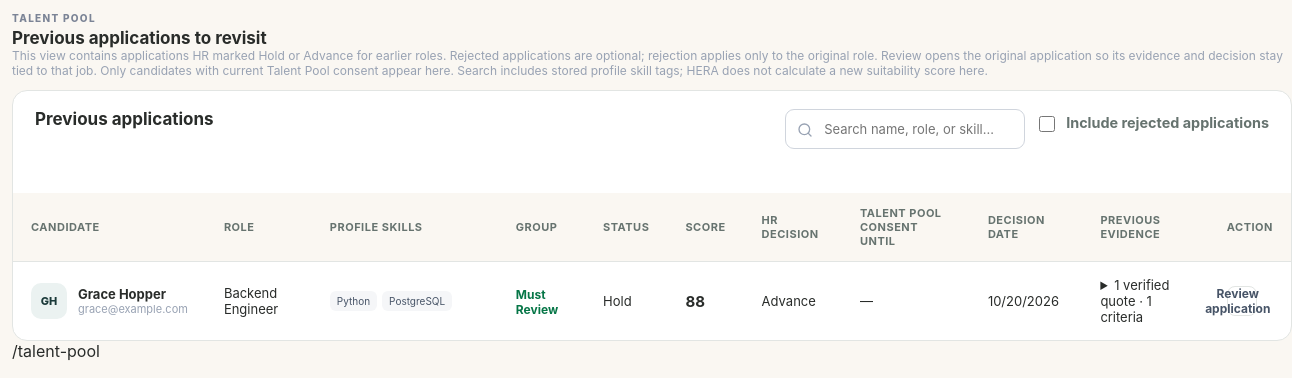
Scenario: TalentPoolList (RankedCandidateList integration) › navigates to the application review on row click
This screenshot has width=1292, height=378.
Expected: the text "Grace Hopper" is shown, x1=78 y1=286 x2=166 y2=302
Click the cell "GH Grace Hopper grace@example.com".
click(109, 301)  # box x1=13 y1=262 x2=206 y2=340
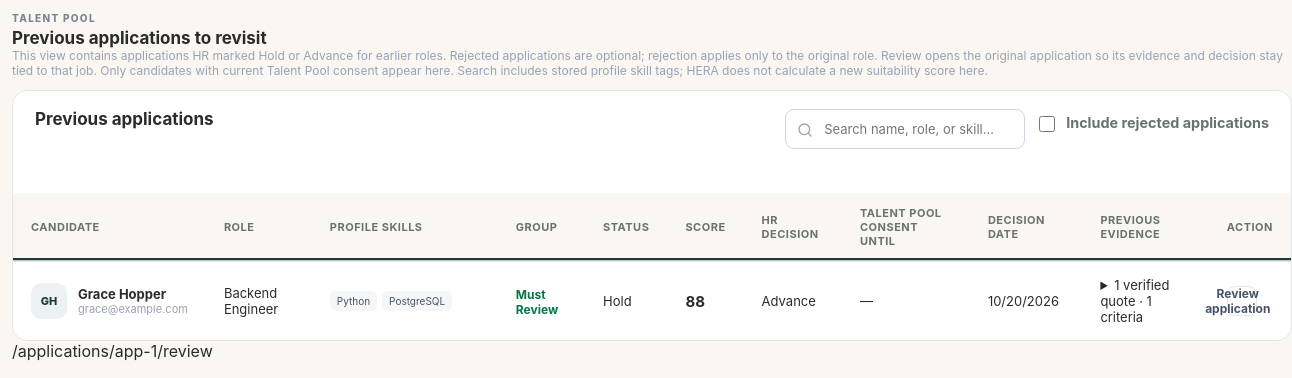
Expected: the text with test id "path" reads "/applications/app-1/review", x1=12 y1=341 x2=213 y2=361
